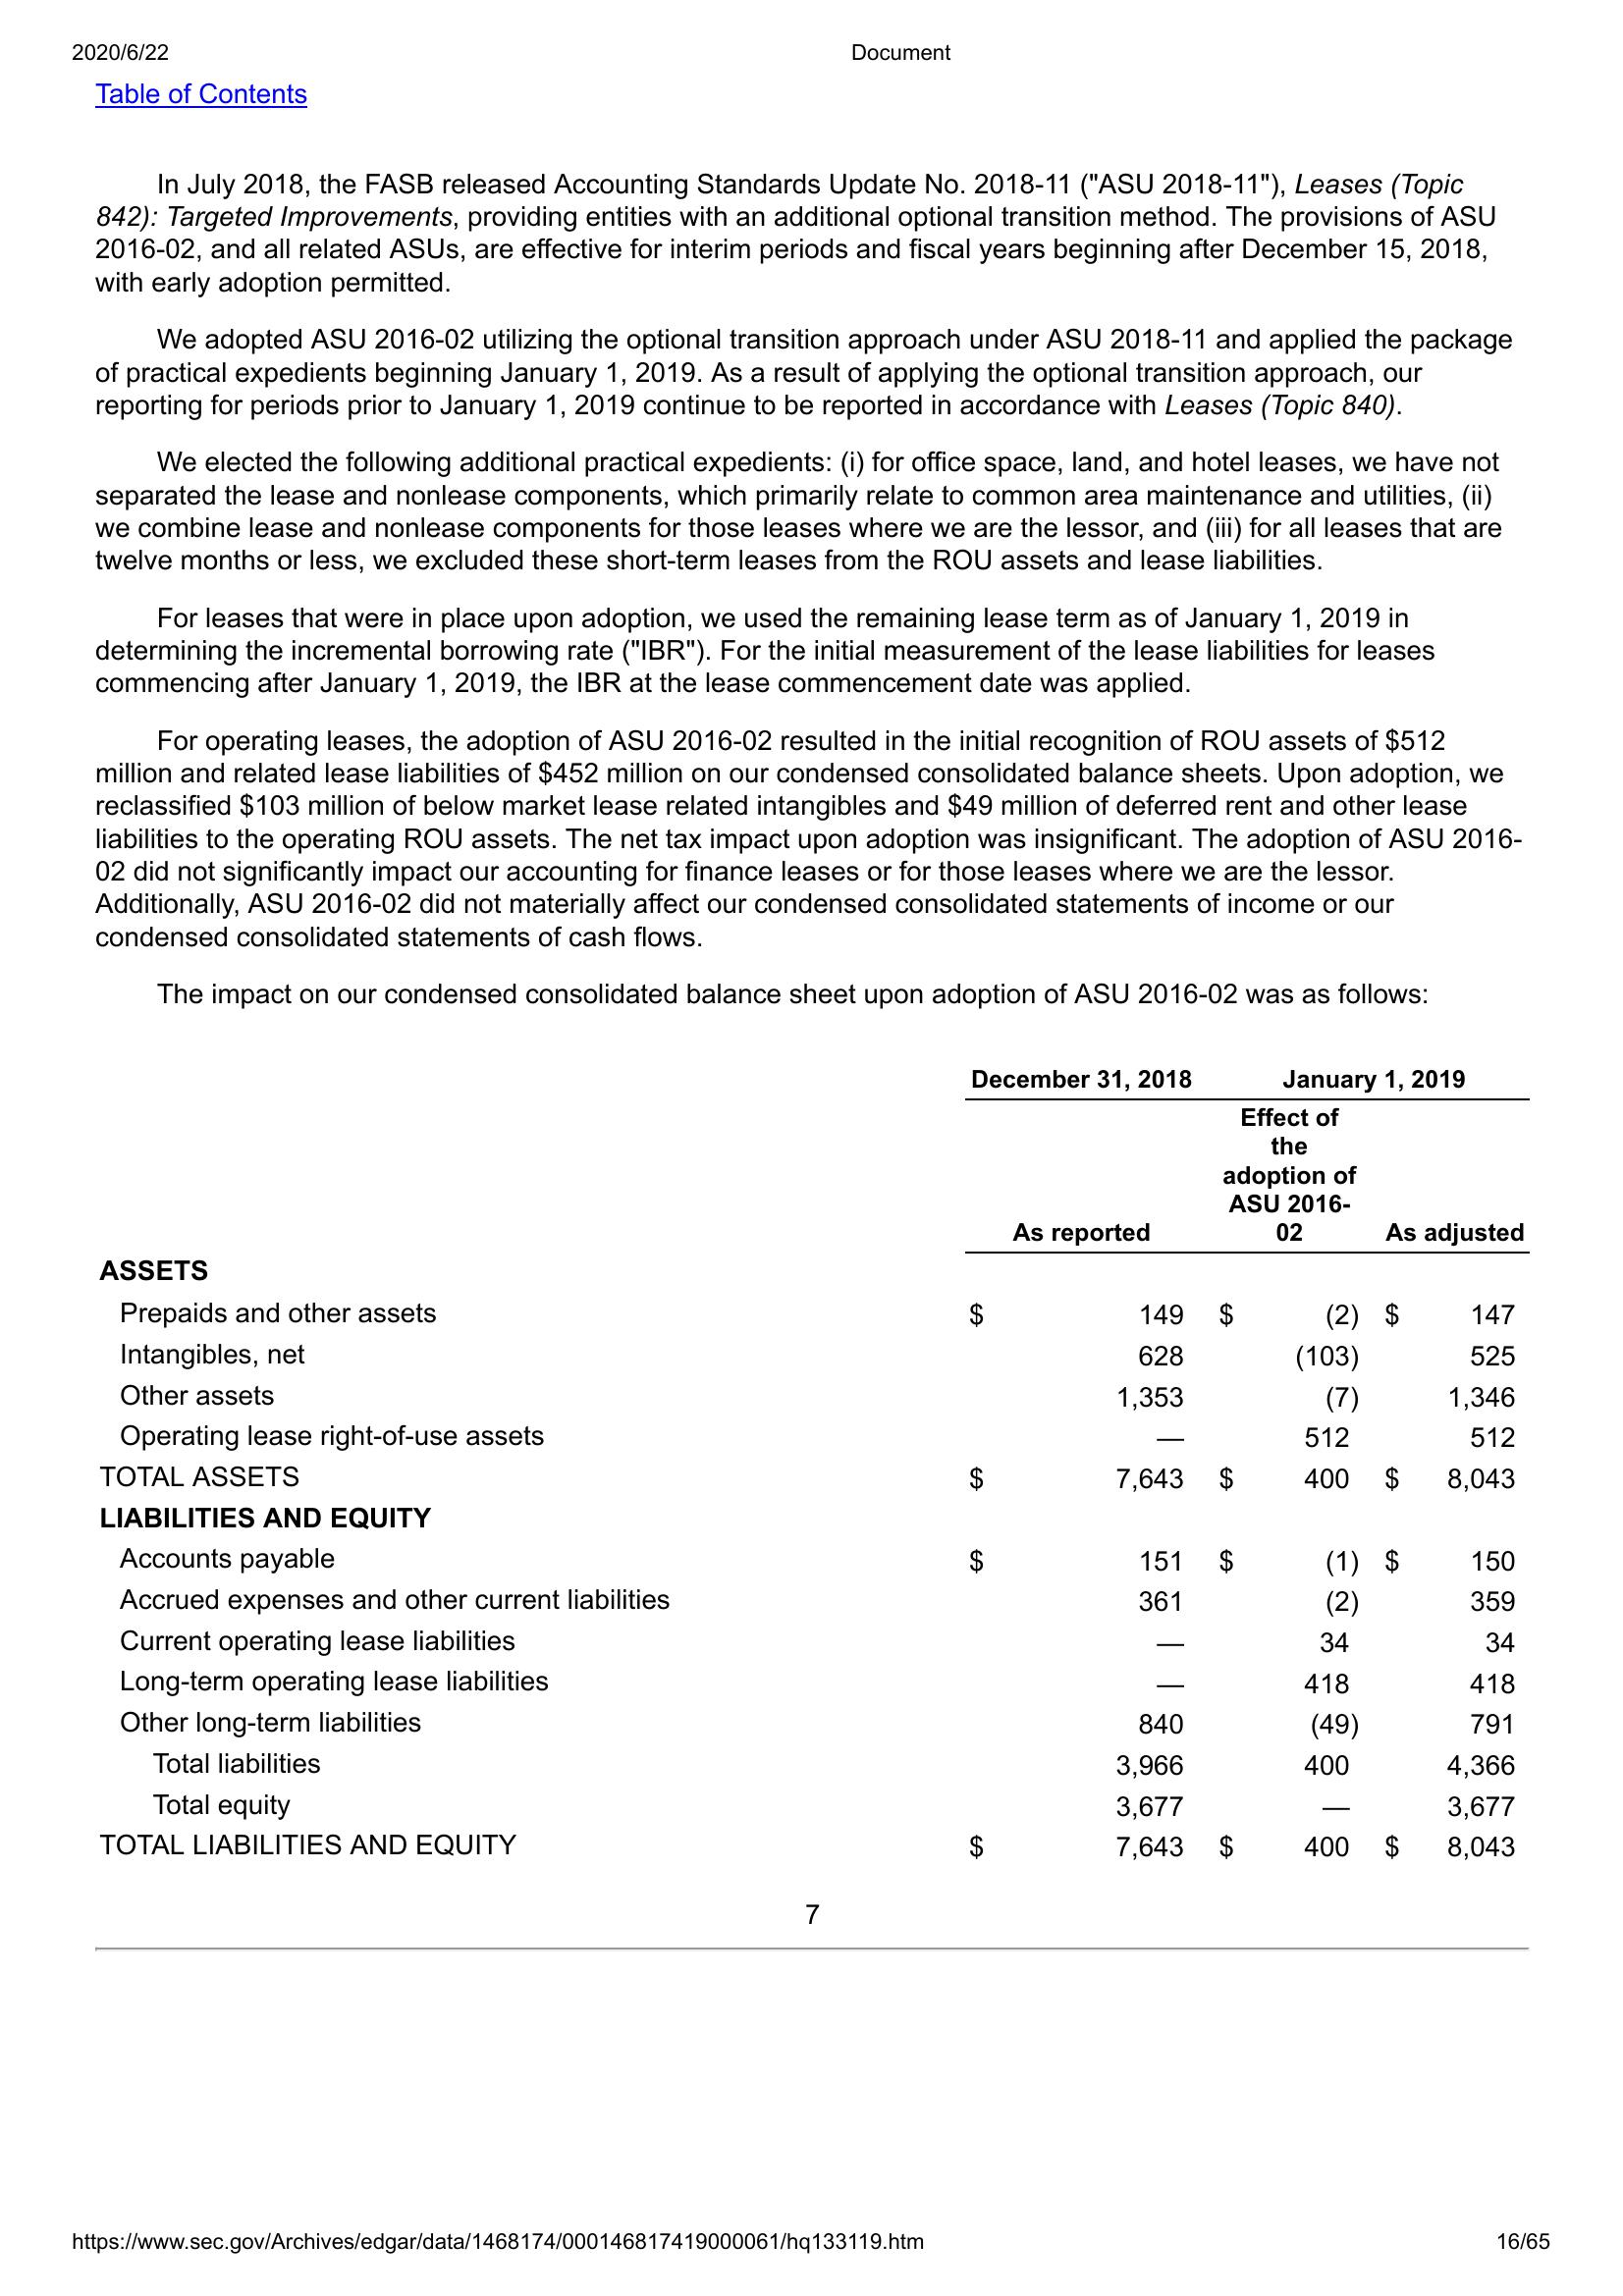table: (90, 1062, 1526, 1868)
